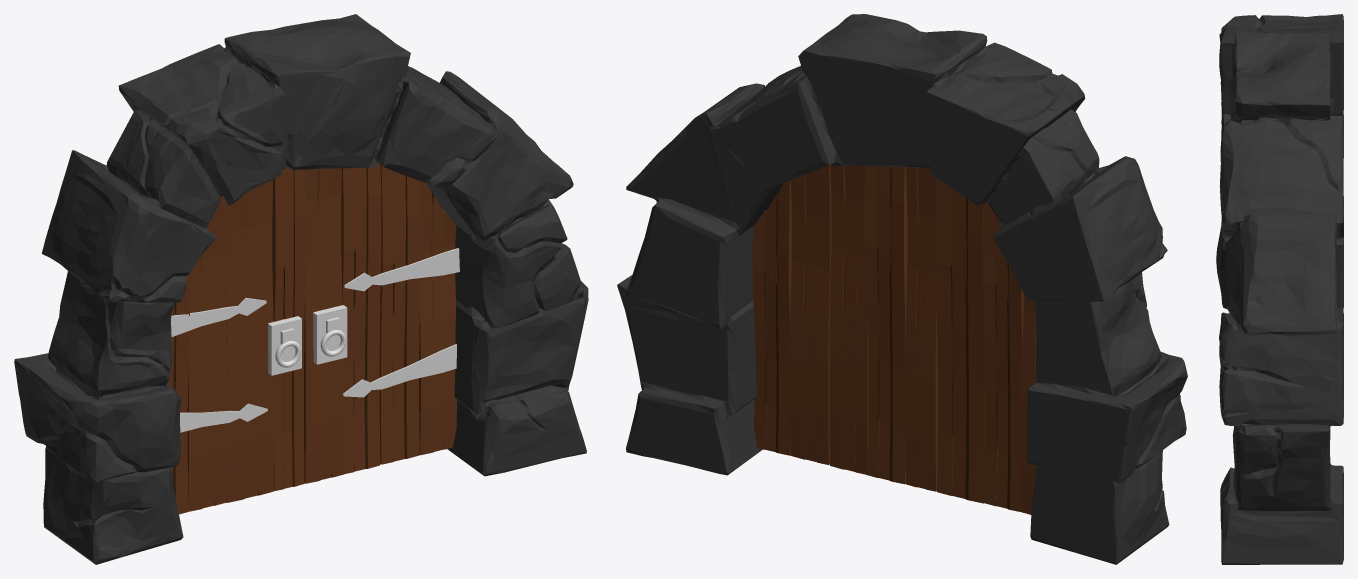
Rendered from BiggerDoorwayLowPoly.fbx.
3 renders of one model, left to right at view 1: azimuth 30°, elevation 25°; view 2: azimuth 150°, elevation 25°; view 3: azimuth 270°, elevation 25°, orthographic. The views are drawn at different scales.
Parts seen in each view (by area): view 1: Arch, Cube.003, Cube.007, Plane.003, Plane.002, Plane, Cube.002, Cube, Plane.001; view 2: Arch, Cube.003, Cube.007; view 3: Arch.
Part boxes in pixels (x1,y1,x2,y2): Arch: (14,14,588,564); Cube.003: (304,162,456,483); Cube.007: (167,166,305,514); Plane.003: (344,248,459,291); Plane.002: (343,344,456,397); Plane: (171,297,266,336); Cube.002: (313,305,347,364); Cube: (268,316,301,375); Plane.001: (180,403,267,432); Arch: (617,14,1187,564); Cube.003: (752,165,907,484); Cube.007: (905,167,1036,514); Arch: (1216,14,1343,564).
Bounding box in the file's own units: 1441 × 1180 × 339.
